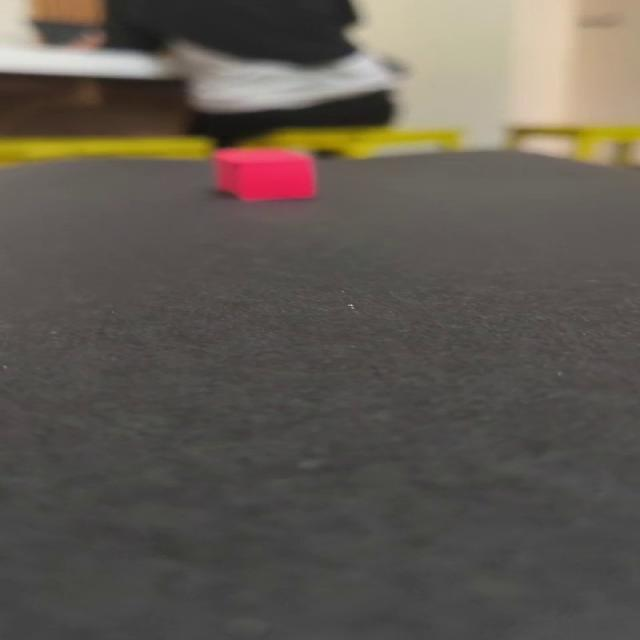red block: (211, 146, 317, 201)
